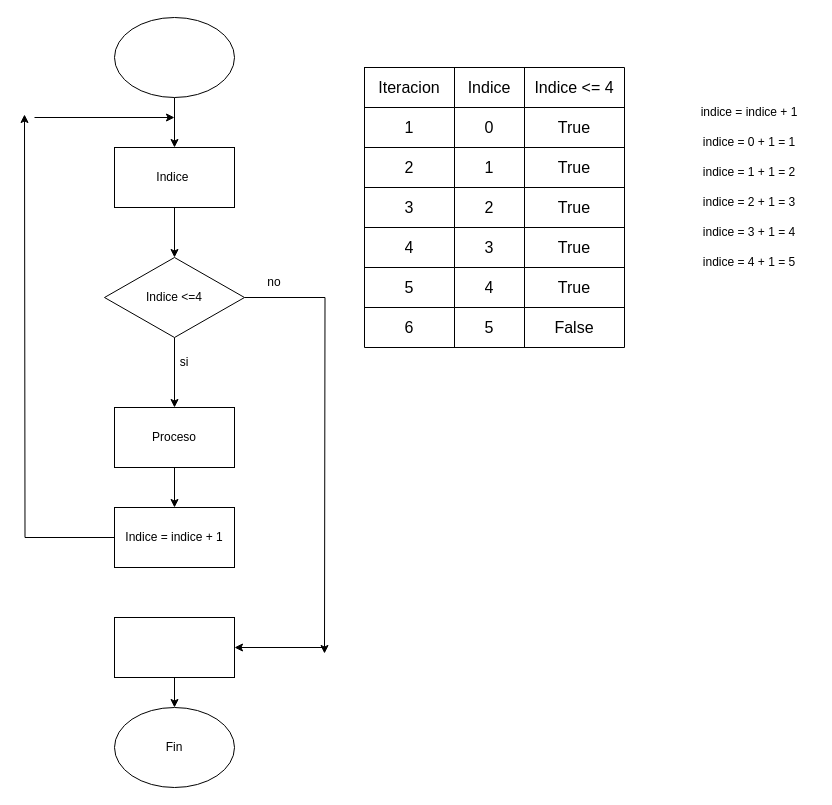
Some shapes in this 832 by 805 pixel diagram are drawn without their labels. The shapes that lost their labels are listed below. From the top down, each one's centre as x and y in pixels, then its label:
At point (174, 57): "Inicio".
At point (174, 647): "Sigo con el programa".
